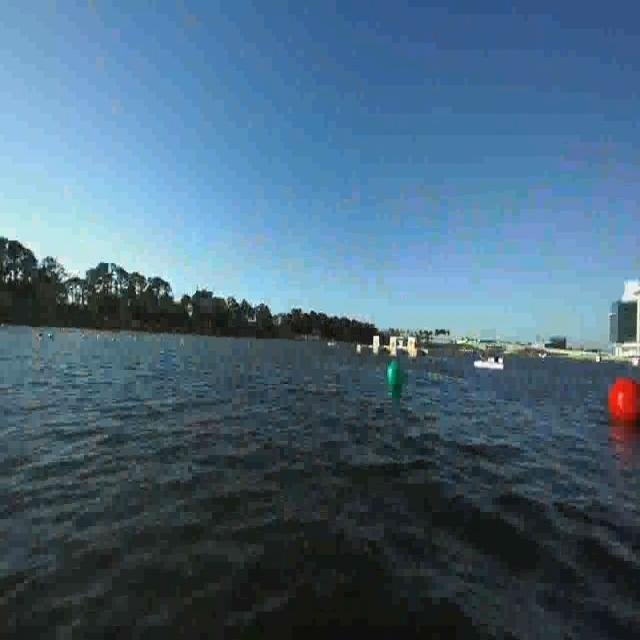green-buoy: (386, 360, 400, 387)
red-buoy: (610, 378, 640, 428)
